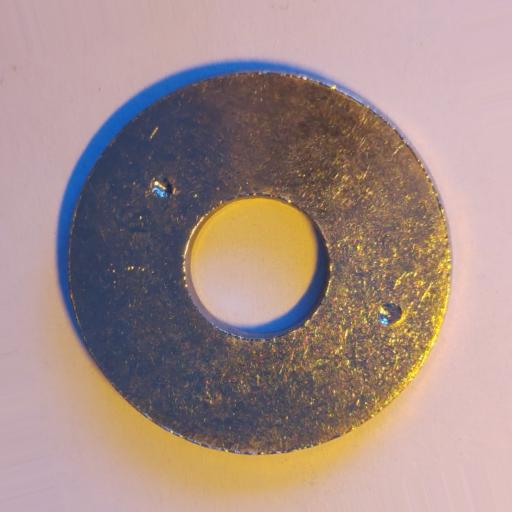circular_cavity: (376, 302, 403, 325), (150, 177, 173, 198)
